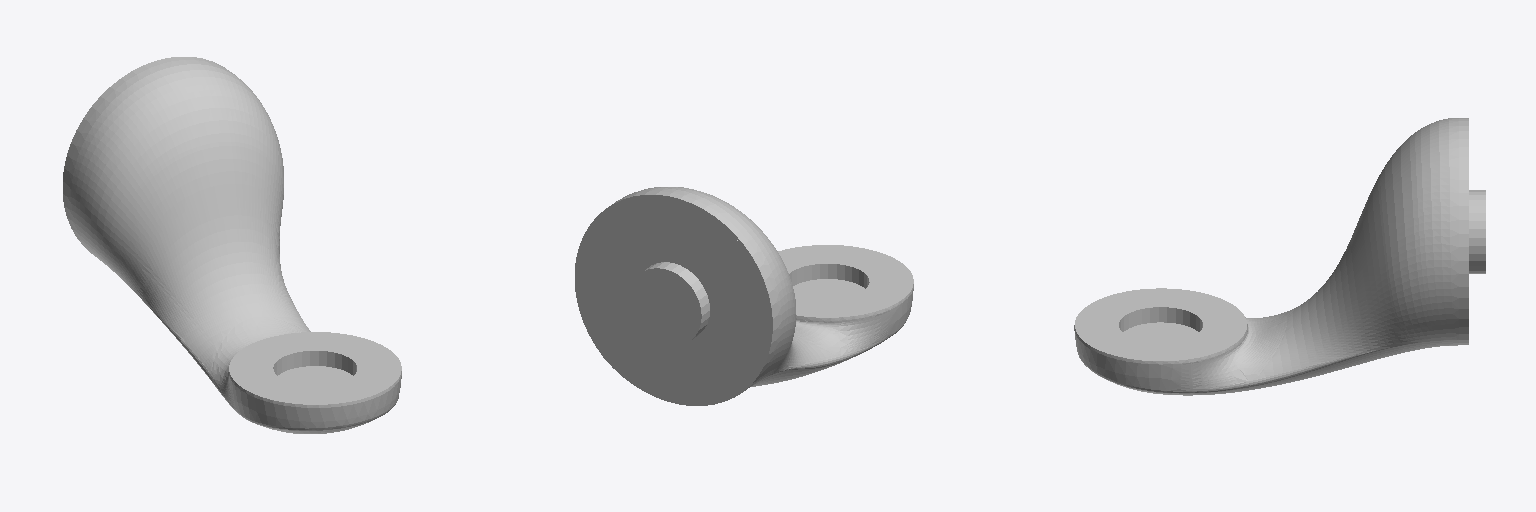
3 views of the same model, side by side, from view 1: azimuth 30°, elevation 25°; view 2: azimuth 150°, elevation 25°; view 3: azimuth 270°, elevation 25° (orthographic).
Parts seen in each view (by area): view 1: link_5; view 2: link_5; view 3: link_5.
Boxes of the visible parts, x1,y1,x2,y2 form: link_5: [63, 57, 401, 433]; link_5: [575, 187, 913, 405]; link_5: [1074, 118, 1485, 395].
Bounding box in the file's own units: 0.1358 × 0.167 × 0.2439.